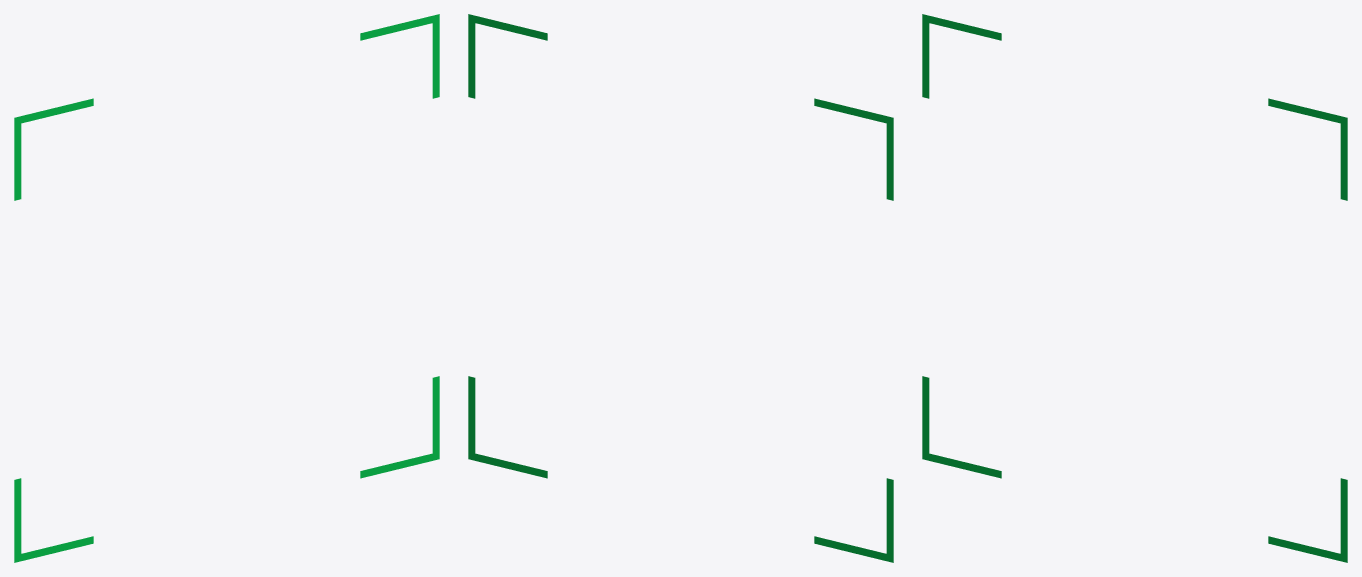
The model's file is selection_frame_thin.gltf.
3 renders of one model, left to right at view 1: azimuth 30°, elevation 25°; view 2: azimuth 150°, elevation 25°; view 3: azimuth 330°, elevation 25°, orthographic.
Visible parts, largest first — view 1: SelectionFrameThin; view 2: SelectionFrameThin; view 3: SelectionFrameThin.
Part boxes in pixels (x1,y1,x2,y2): SelectionFrameThin: (14, 14, 439, 562); SelectionFrameThin: (468, 14, 893, 562); SelectionFrameThin: (922, 14, 1347, 562).
Size of the model in its own units: 1.5 by 1.5 by 0.
